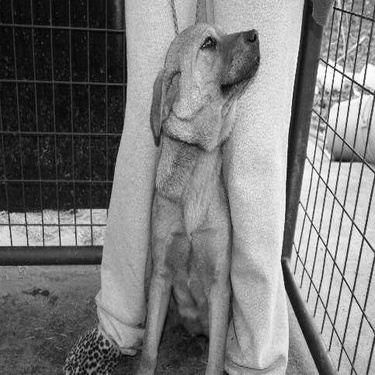dog: (139, 12, 263, 373)
